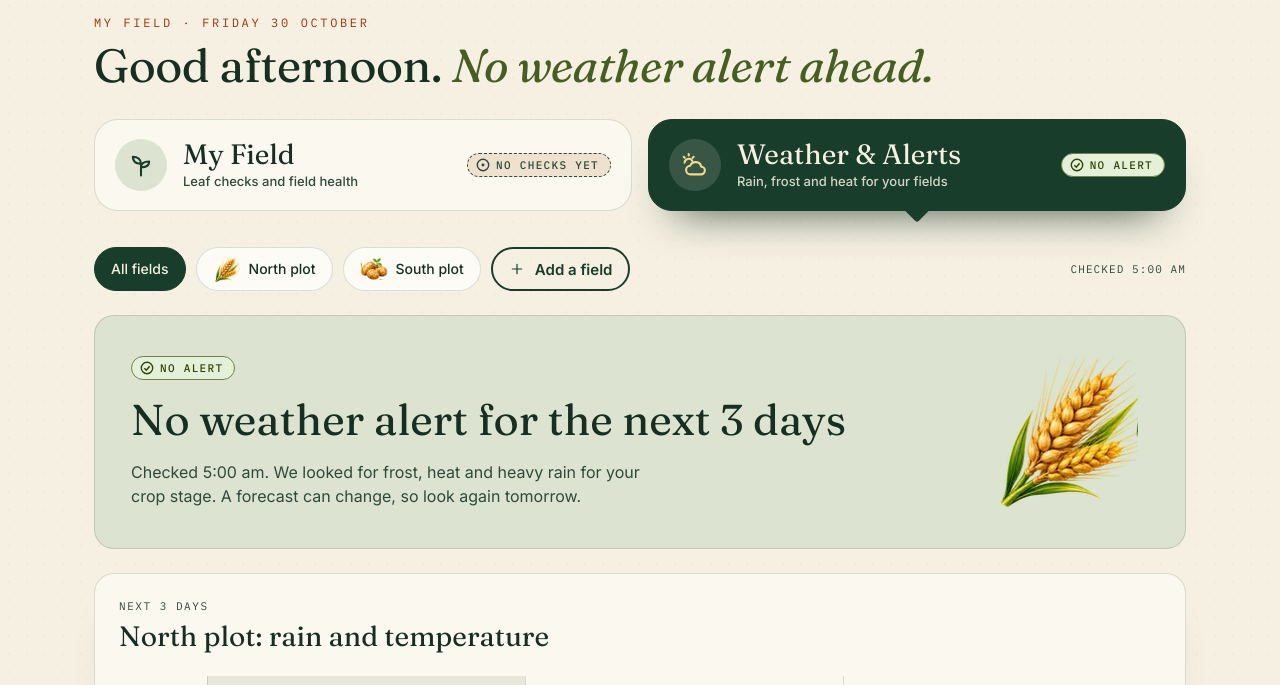
Test: mandi prices › another field asks again, with its own crop
This screenshot has width=1280, height=685.
Step 1. Click the button "South plot" → (412, 269), box [343,247,481,291]
(page scrolled)
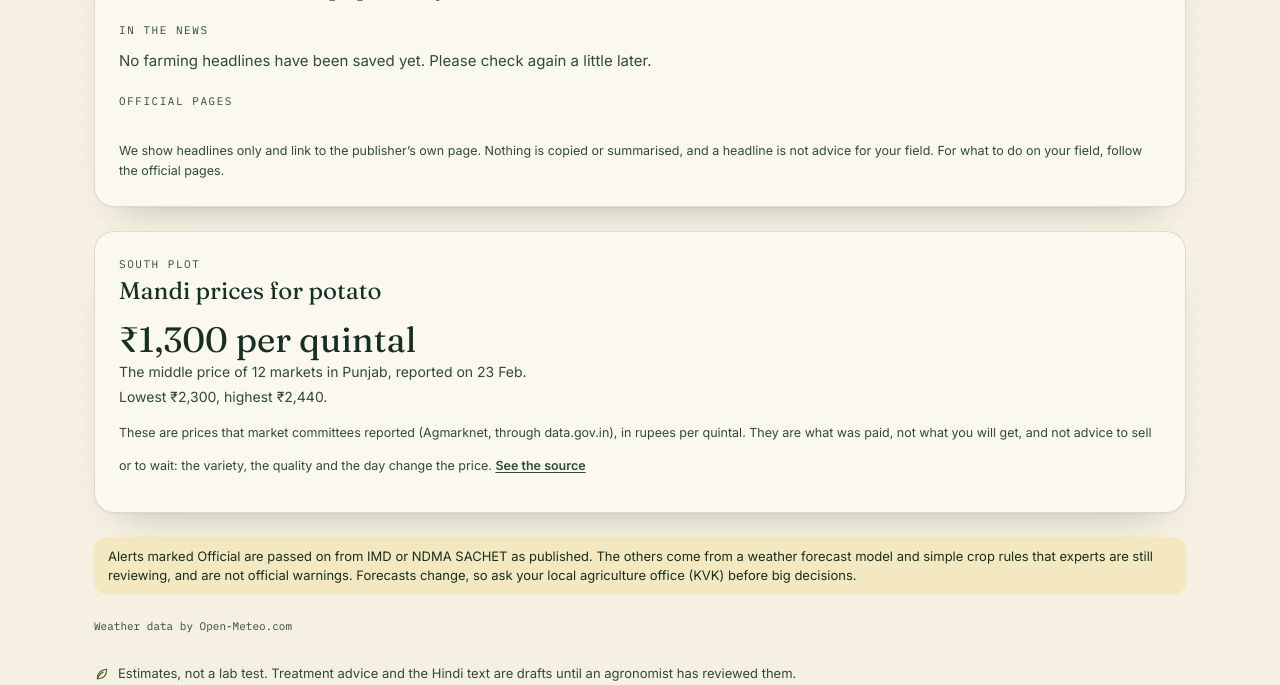
Expected: the text "₹1,300 per quintal" is shown, [119,318,416,361]
